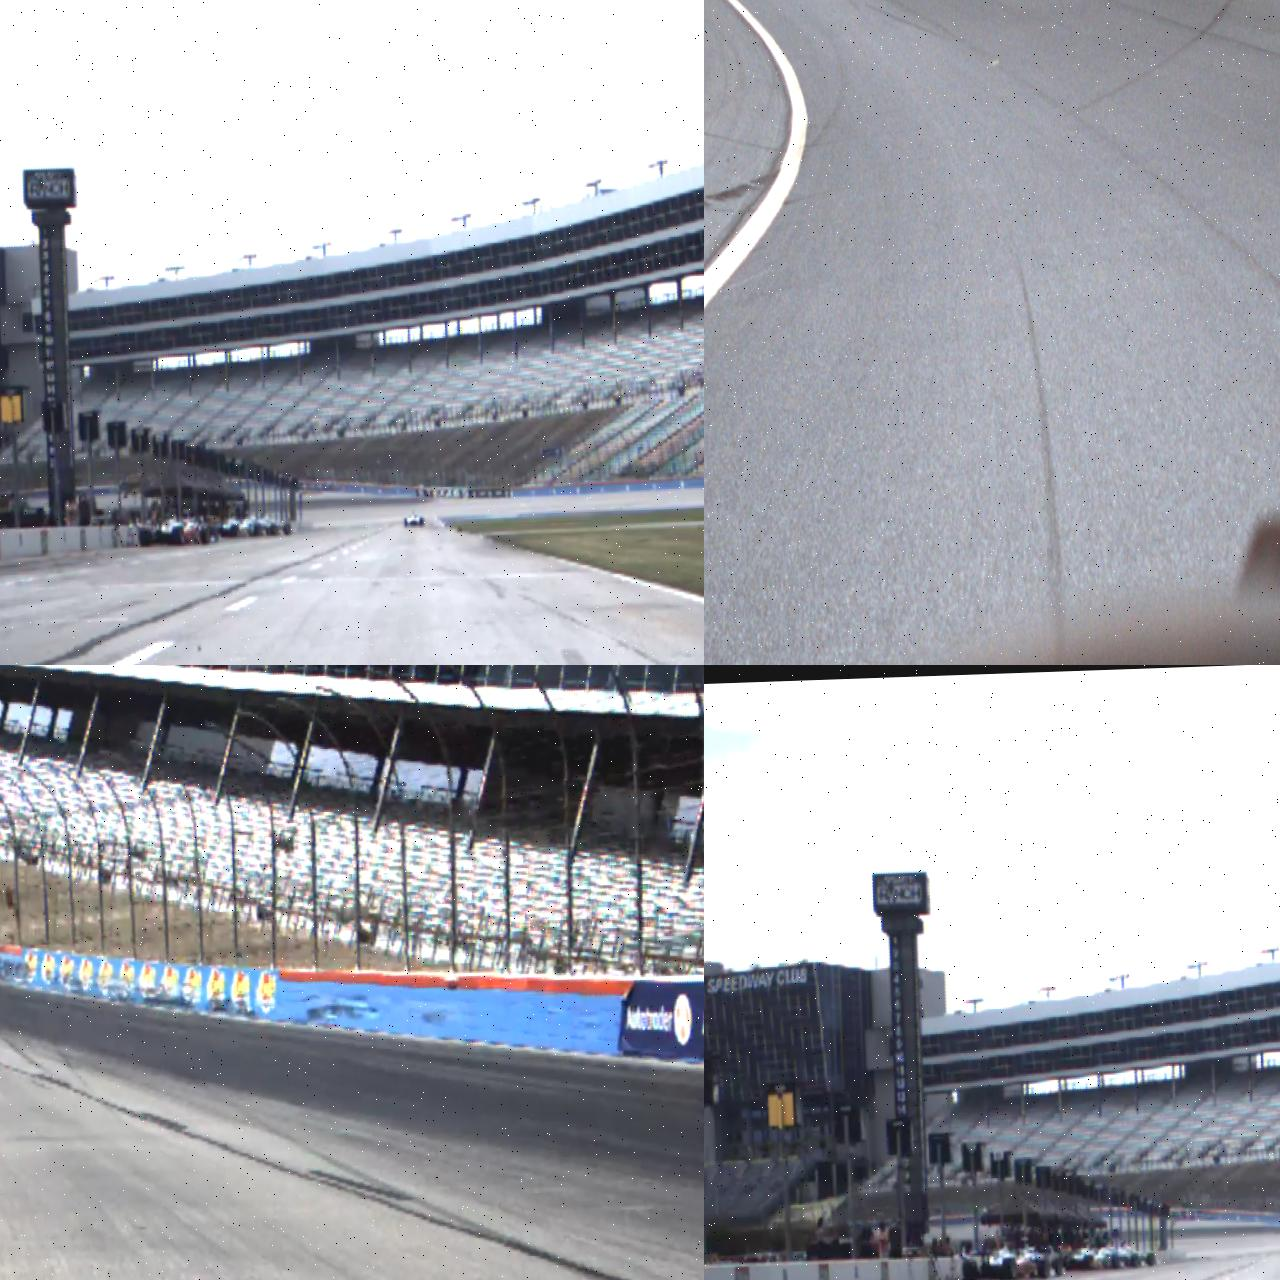AV: (960, 1241, 1049, 1280), (138, 510, 217, 548), (403, 510, 424, 528)
Wheel: (962, 1258, 977, 1280), (1002, 1256, 1016, 1279), (139, 528, 152, 546), (172, 526, 184, 545), (1038, 1258, 1049, 1278), (1052, 1258, 1062, 1276), (200, 528, 210, 545), (1146, 1252, 1156, 1266), (1083, 1254, 1093, 1268), (1111, 1253, 1120, 1268), (1130, 1252, 1138, 1268), (283, 522, 291, 536), (230, 524, 238, 538), (270, 523, 278, 536), (253, 522, 260, 536), (403, 518, 408, 528), (419, 518, 424, 526)
